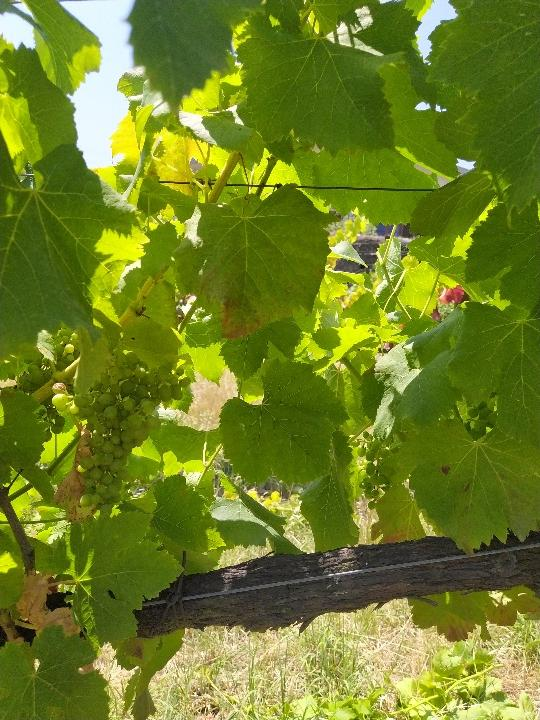grape: (50, 350, 190, 518), (349, 432, 400, 512)
